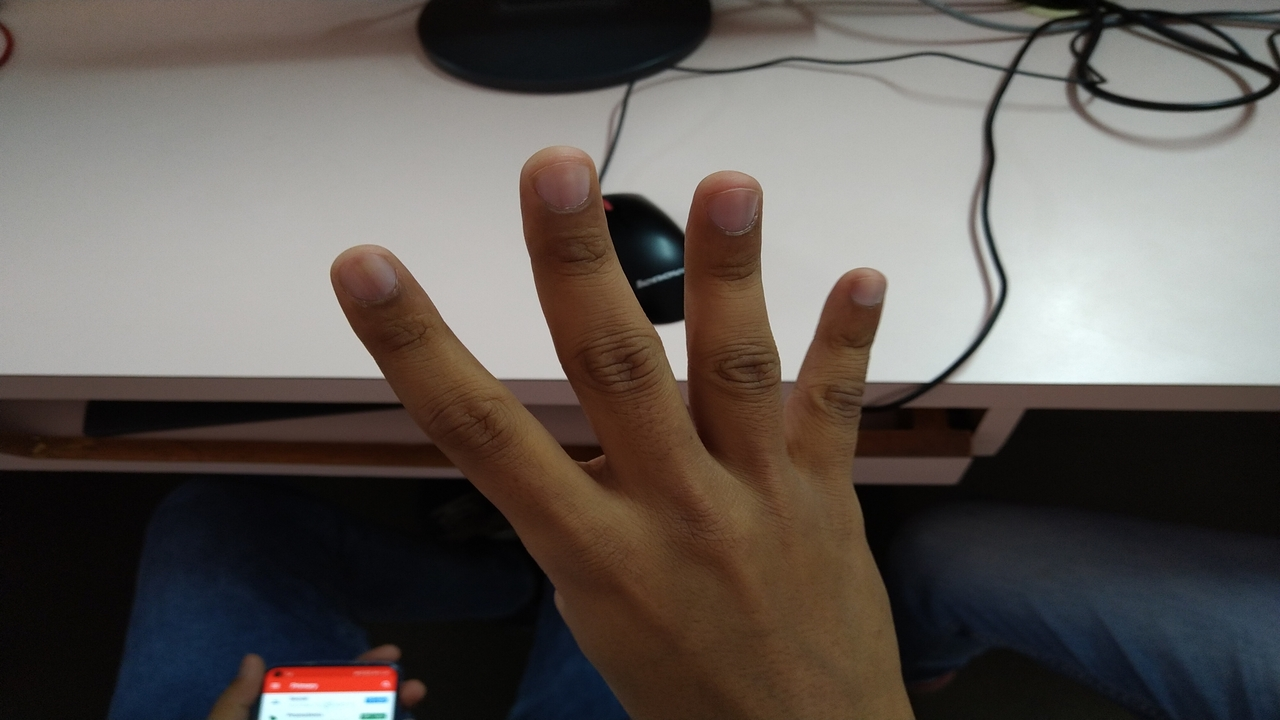fingertip: (512, 146, 600, 222), (320, 244, 400, 312), (688, 170, 768, 236), (822, 264, 896, 324)
